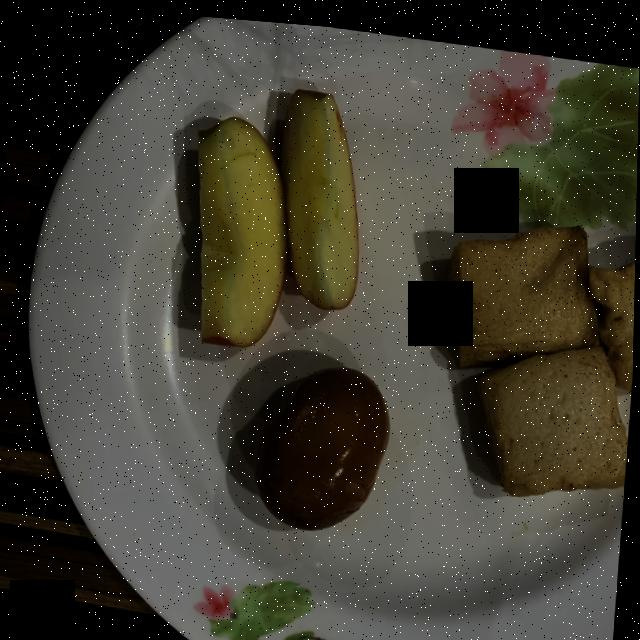apple -sliced-: (198, 84, 359, 343)
coin: (95, 6, 165, 46)
creamy tofu -without sauce-: (449, 216, 636, 487)
soy egg: (256, 361, 390, 525)
